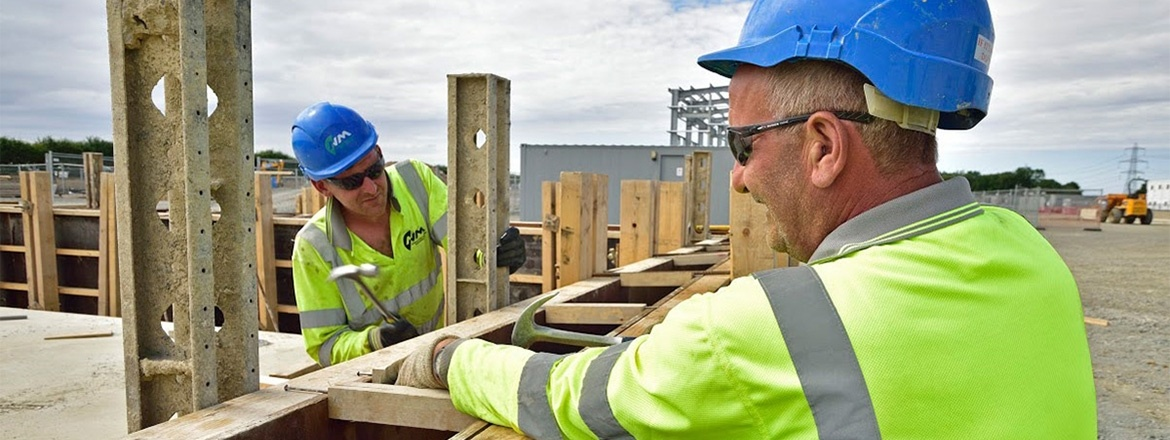blue: (710, 1, 1003, 245), (288, 100, 387, 220)
